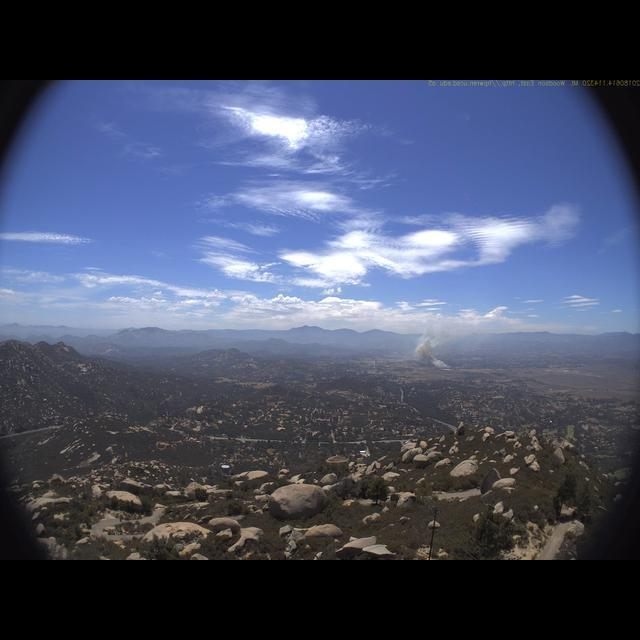Smoke: (409, 323, 455, 374)
